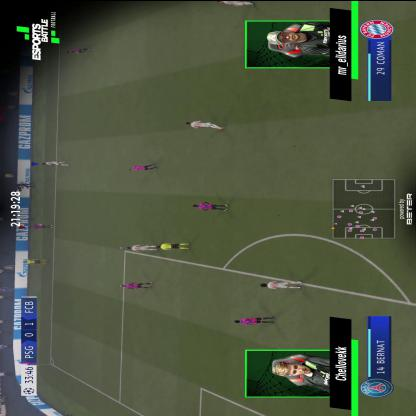ball: (38, 224, 42, 226)
